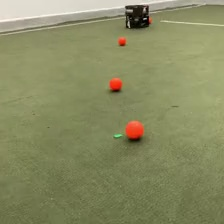ball: (125, 120, 144, 142), (108, 76, 122, 92), (117, 34, 127, 45), (147, 17, 154, 25)
robot: (124, 2, 150, 29)
